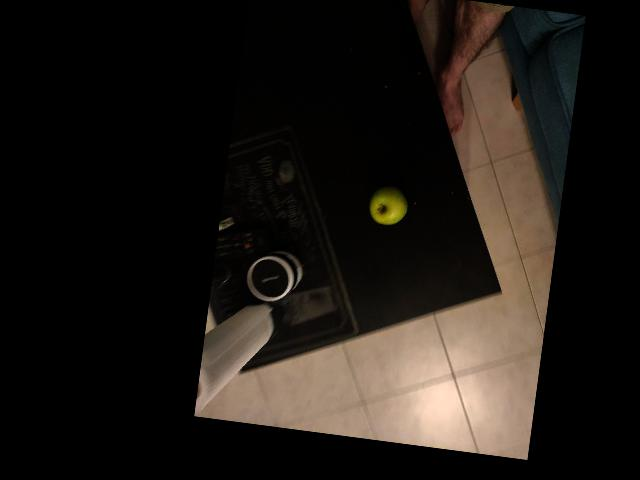apple: (423, 240, 487, 306)
